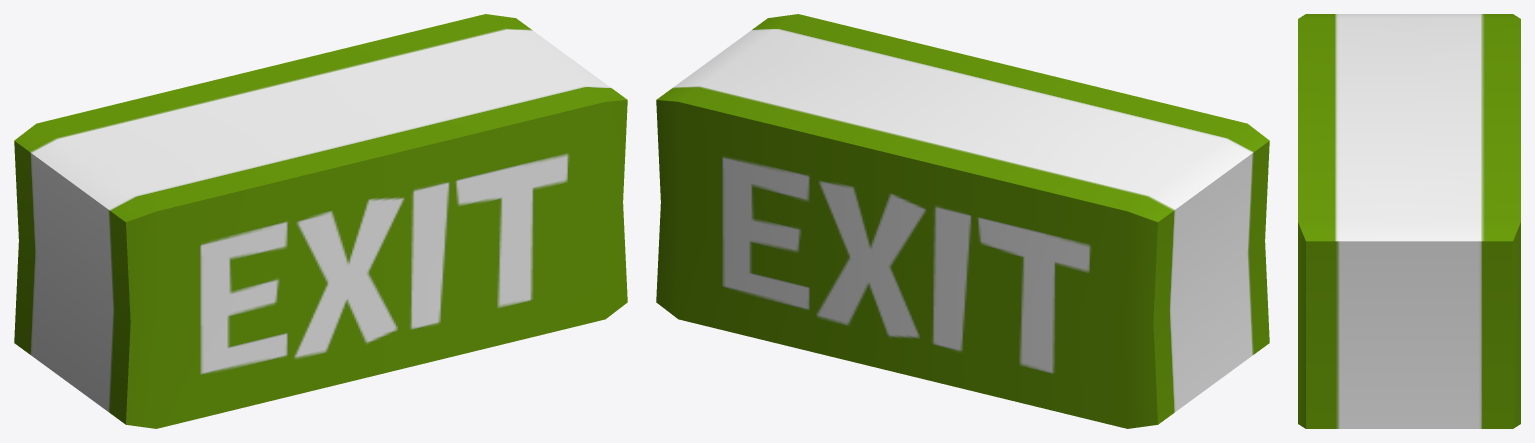
3 views of the same model, side by side, from view 1: azimuth 30°, elevation 25°; view 2: azimuth 150°, elevation 25°; view 3: azimuth 270°, elevation 25° (orthographic). The views are drawn at different scales.
Parts seen in each view (by area): view 1: exit_sign; view 2: exit_sign; view 3: exit_sign.
Boxes of the visible parts, x1,y1,x2,y2 form: exit_sign: (14, 14, 627, 428); exit_sign: (656, 14, 1269, 428); exit_sign: (1298, 14, 1520, 428).
Size of the model in its own units: 4789 by 1984 by 1984.
